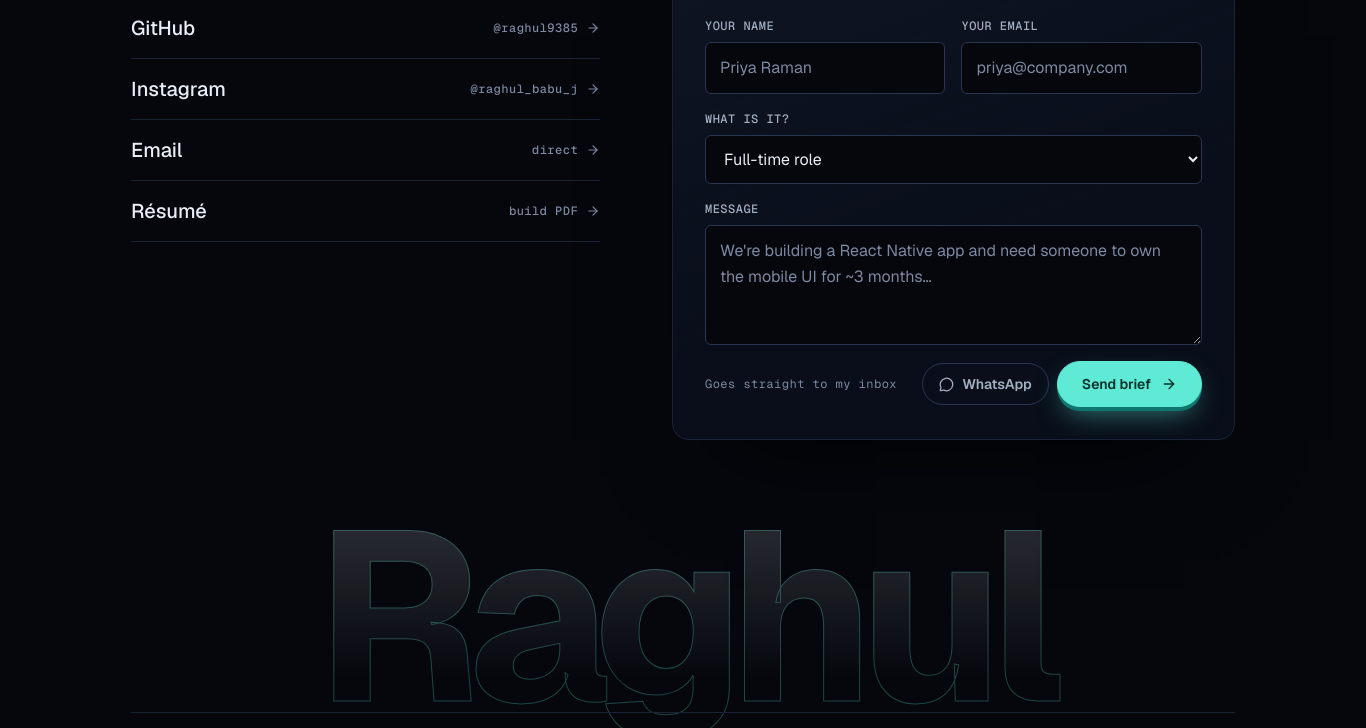
Contact form › validation › asks for a name when the form is sent empty
The image size is (1366, 728).
(page scrolled)
Click the button "Send brief" at (1129, 384), box [1057,361,1202,407]
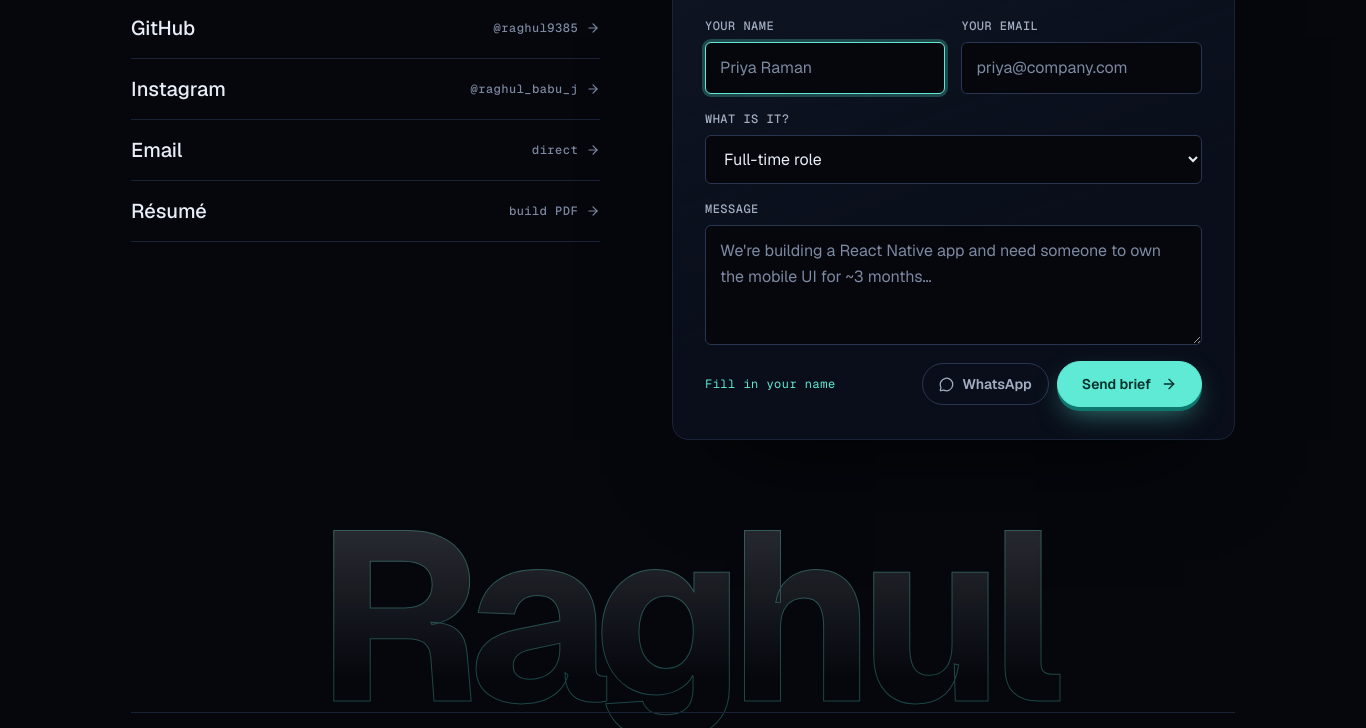
Check: the text with test id "form-hint" reads "Fill in your name", box [705,376,836,392]
